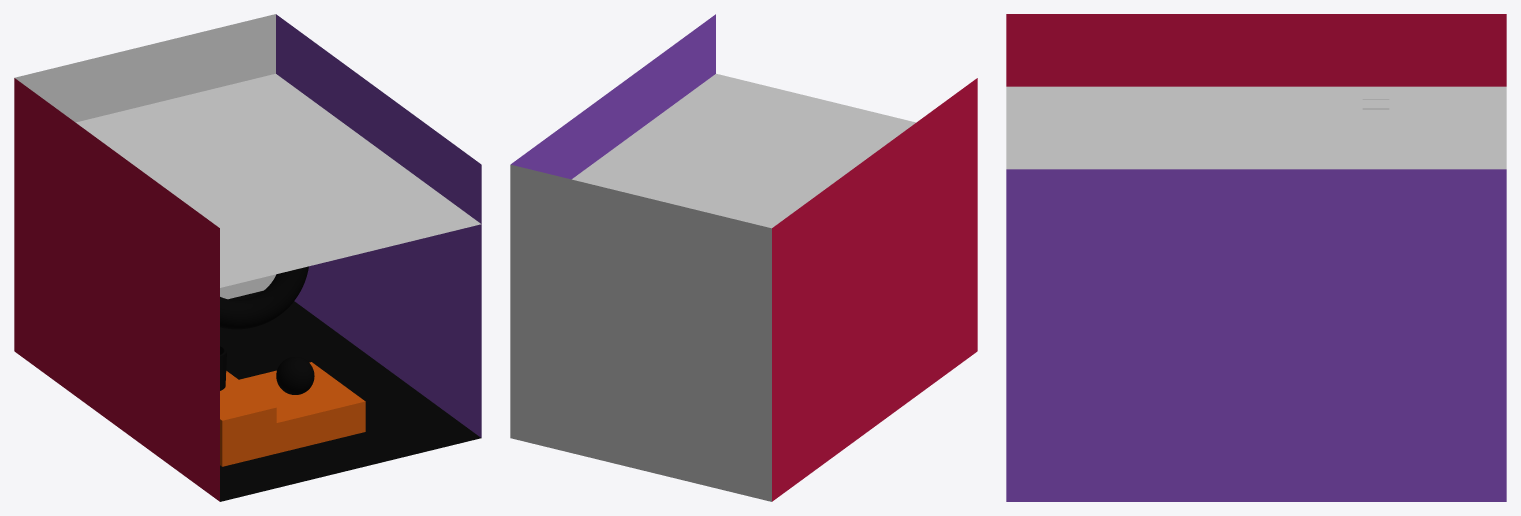
File: TestRoom.obj
3 views of the same model, side by side, from view 1: azimuth 30°, elevation 25°; view 2: azimuth 150°, elevation 25°; view 3: azimuth 270°, elevation 25° (orthographic). The views are drawn at different scales.
Visible parts, largest first — view 1: Left, Ceiling, Right, Floor, Back, Stool, Torus, Sphere; view 2: Back, Left, Ceiling, Right; view 3: Right, Ceiling, Left.
Part boxes in pixels (x1,y1,x2,y2): Left: (14, 78, 219, 501); Ceiling: (76, 73, 480, 287); Right: (276, 14, 481, 437); Floor: (220, 290, 481, 501); Back: (14, 14, 275, 299); Stool: (220, 362, 365, 466); Torus: (220, 266, 308, 329); Sphere: (276, 357, 314, 394); Back: (510, 164, 771, 501); Left: (772, 78, 977, 501); Ceiling: (572, 73, 915, 228); Right: (511, 14, 715, 179); Right: (1006, 169, 1506, 501); Ceiling: (1006, 86, 1506, 169); Left: (1006, 14, 1506, 86).
Size of the model in its own units: 2.09 by 2.25 by 2.85.
